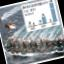fishing boat: (13, 39, 28, 60), (26, 38, 40, 58), (8, 38, 20, 61), (18, 40, 32, 58), (32, 38, 46, 56), (37, 38, 50, 56), (49, 35, 62, 53), (43, 38, 56, 54), (54, 33, 64, 53), (2, 36, 15, 50)
